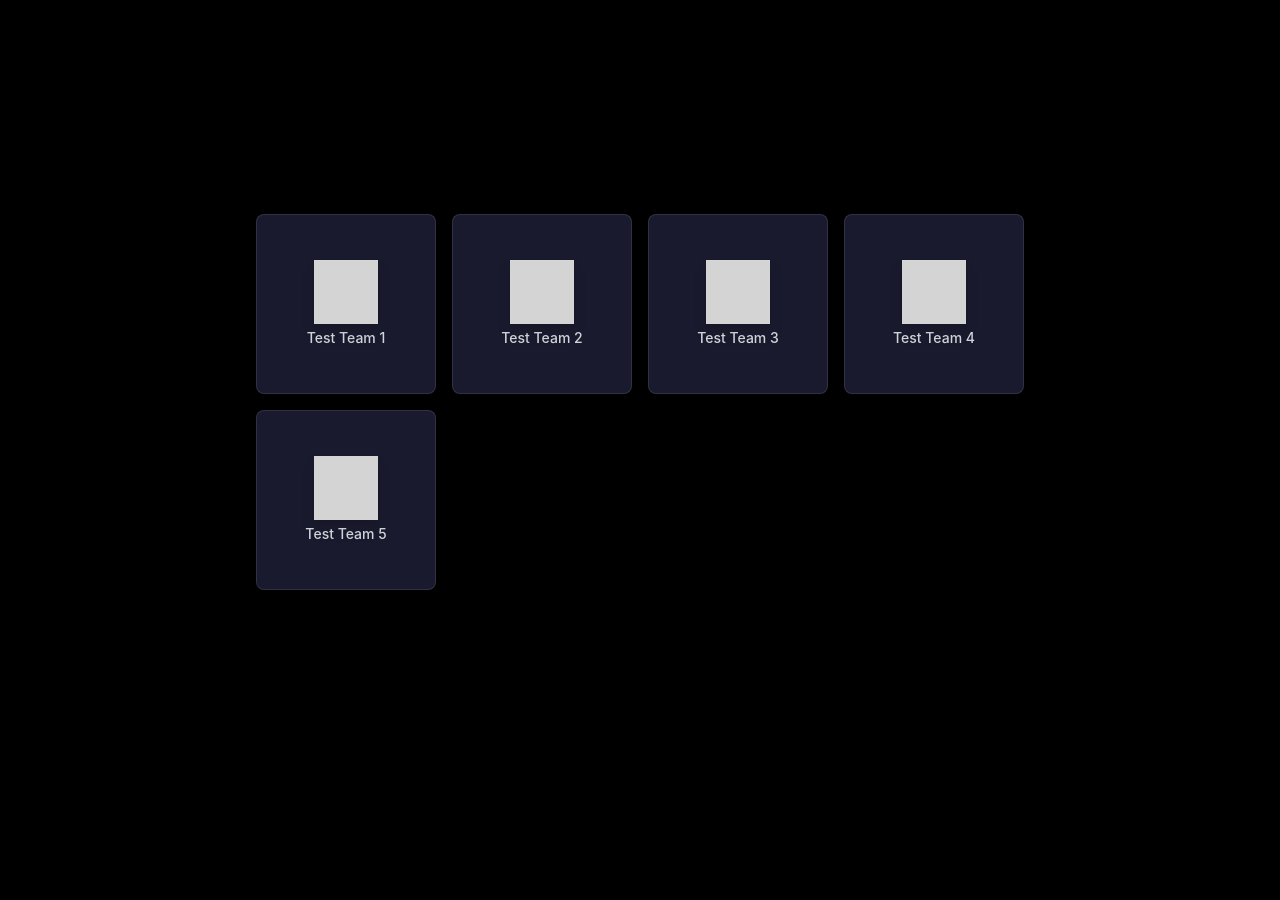
Test case: TeamSection 响应式布局 › 抽屉响应式行为 › PC端抽屉从右侧弹出
Expected: the element with test id "teams-grid" is shown, [256,214,1024,590]
Click the element with test id "team-card". click: (346, 304)
box: [256,214,436,394]
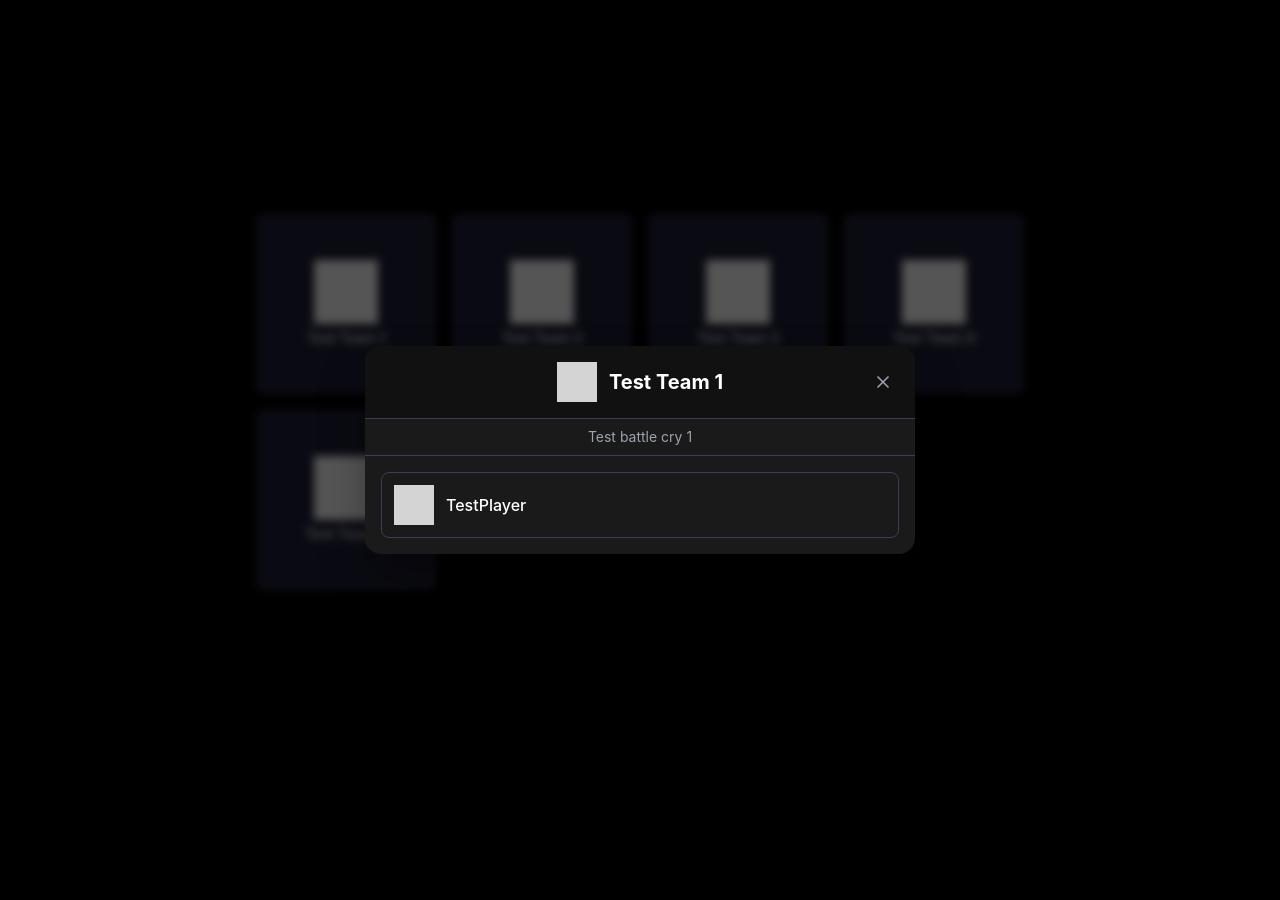
Expected: the dialog with test id "team-member-modal" is shown
Click the element with test id "member-row". click: (640, 505)
box: [381,472,899,538]
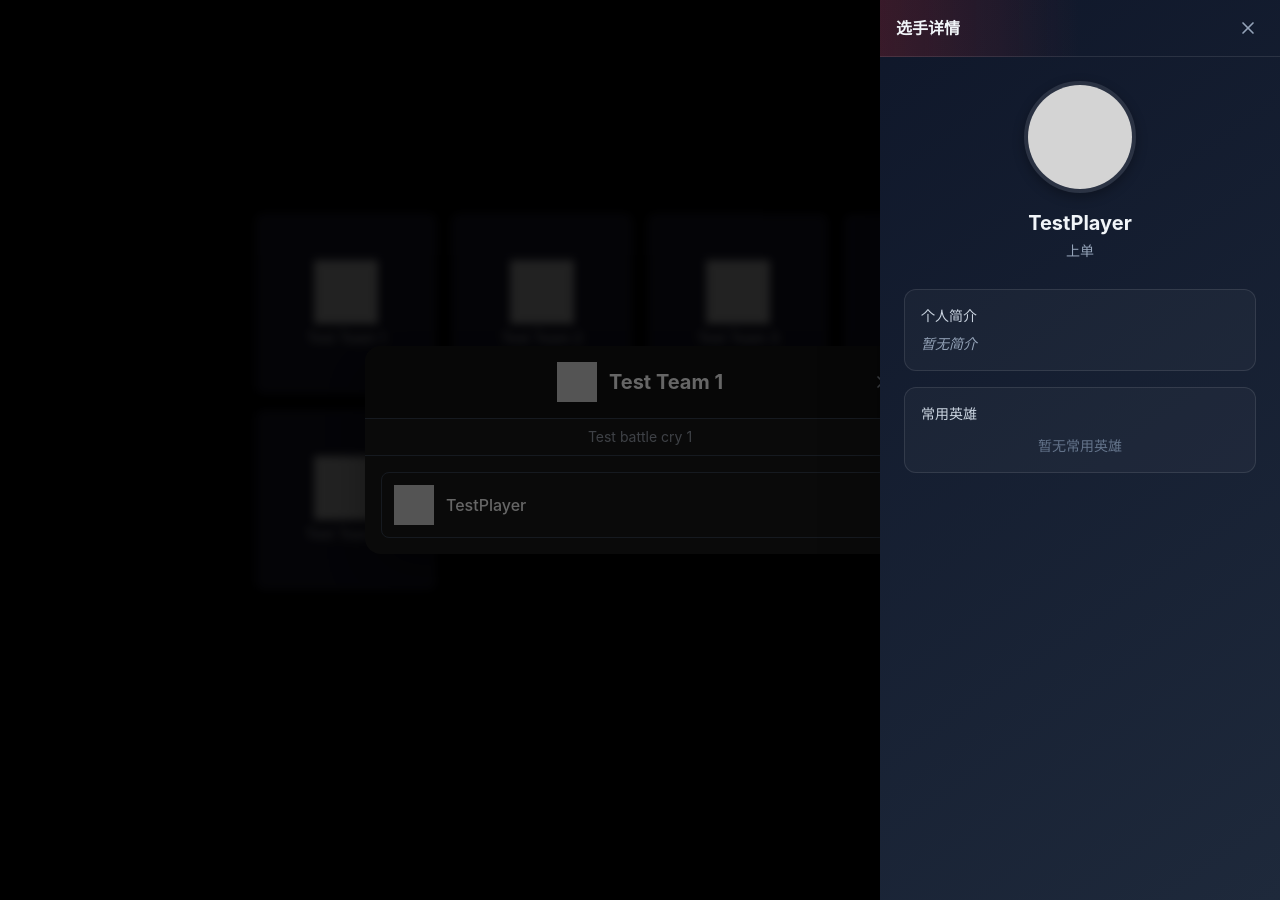
Expected: the element with test id "player-drawer" is shown, [880,0,1279,899]
